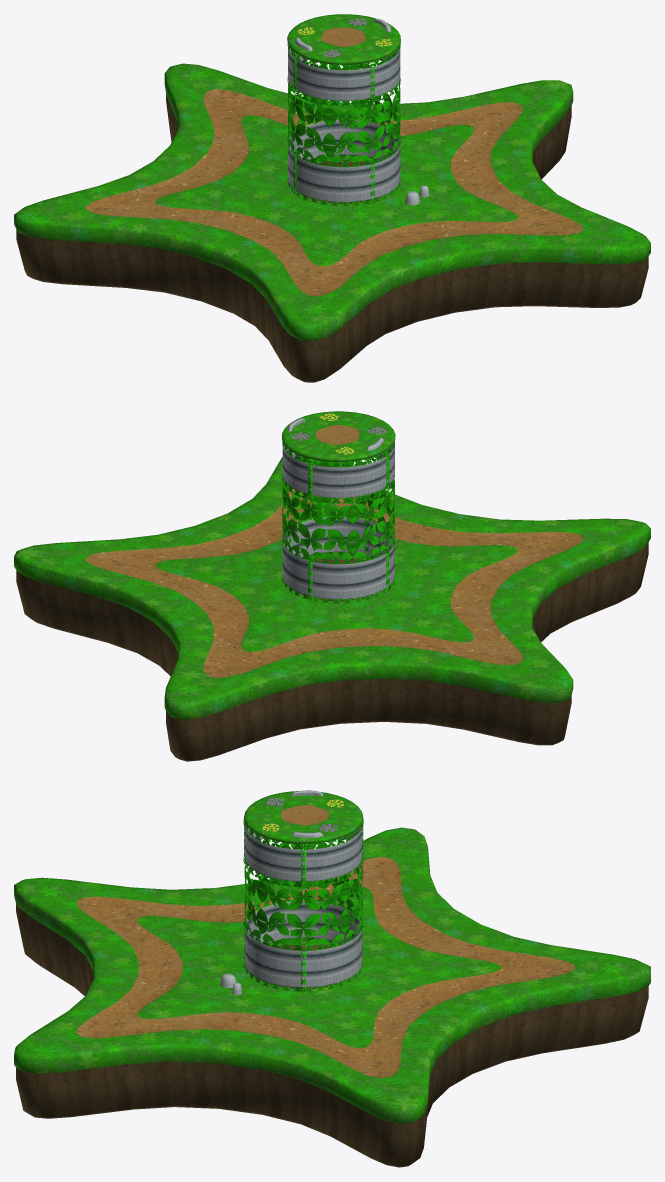
The model's file is HikeGardenEtoilePlanet.fbx.
The picture shows the model from 3 angles, top to bottom: view 1: azimuth 30°, elevation 25°; view 2: azimuth 150°, elevation 25°; view 3: azimuth 270°, elevation 25°; orthographic projection. The views are drawn at different scales.
Parts seen in each view (by area): view 1: Plane.000, Plane.001, Plane.005, Plane.003, Plane.002; view 2: Plane.000, Plane.001, Plane.005, Plane.003, Plane.002; view 3: Plane.000, Plane.001, Plane.005, Plane.003, Plane.002, Plane.004.
Part boxes in pixels (x1=…): Plane.000: x1=14, y1=14, x2=650, y2=341; Plane.001: x1=16, y1=94, x2=648, y2=382; Plane.005: x1=86, y1=27, x2=583, y2=296; Plane.003: x1=288, y1=45, x2=400, y2=202; Plane.002: x1=287, y1=43, x2=400, y2=205; Plane.000: x1=14, y1=411, x2=650, y2=719; Plane.001: x1=16, y1=542, x2=648, y2=761; Plane.005: x1=85, y1=425, x2=583, y2=678; Plane.003: x1=282, y1=442, x2=394, y2=599; Plane.002: x1=282, y1=440, x2=394, y2=603; Plane.000: x1=14, y1=791, x2=650, y2=1123; Plane.001: x1=16, y1=903, x2=648, y2=1167; Plane.005: x1=76, y1=805, x2=574, y2=1078; Plane.003: x1=244, y1=823, x2=362, y2=987; Plane.002: x1=243, y1=818, x2=363, y2=991; Plane.004: x1=220, y1=790, x2=323, y2=994.
Bounding box in the file's own units: 362779 × 133172 × 345023.
Materials: 8 (8 with a texture image).
